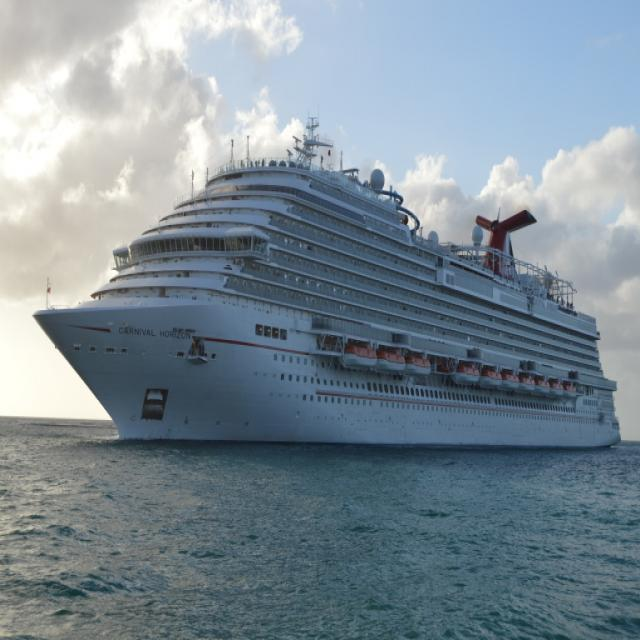cruises: (27, 83, 640, 481)
